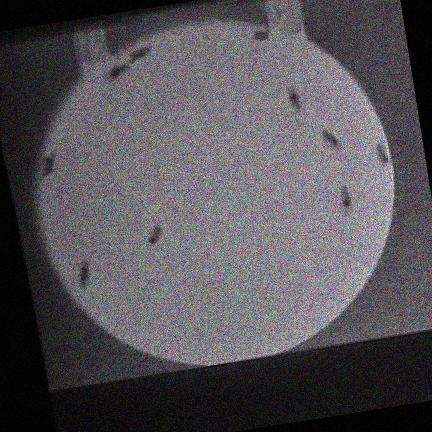fly: (105, 64, 129, 82), (320, 131, 340, 149), (129, 48, 151, 63), (41, 153, 54, 177), (340, 188, 352, 213), (375, 145, 389, 166), (288, 88, 300, 112), (78, 262, 89, 288), (148, 225, 162, 245), (252, 30, 268, 41)
